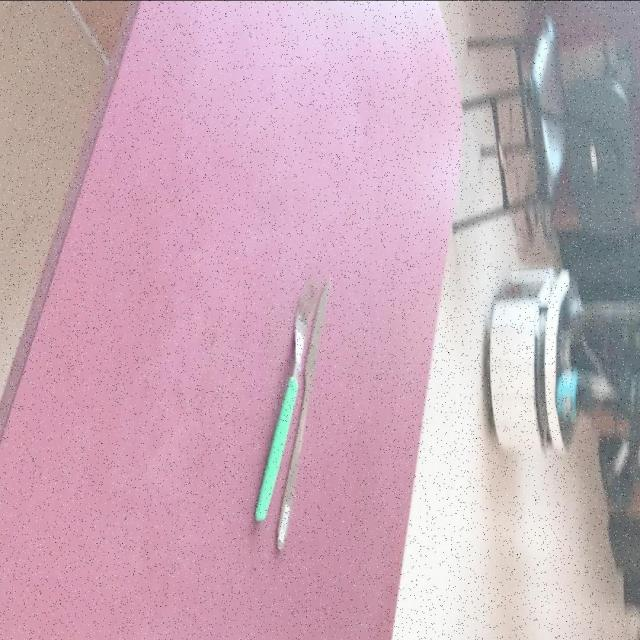Fork: (252, 284, 312, 524)
Knife: (274, 277, 332, 553), (252, 283, 317, 525)
